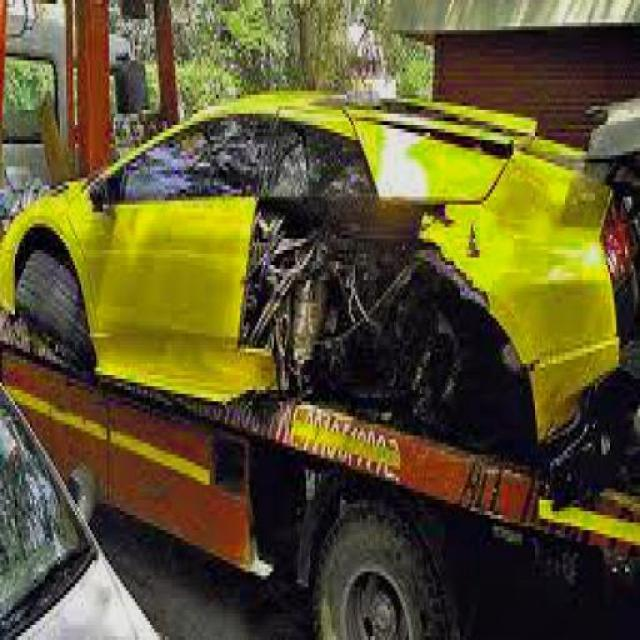Car-Damage: (241, 179, 559, 437)
